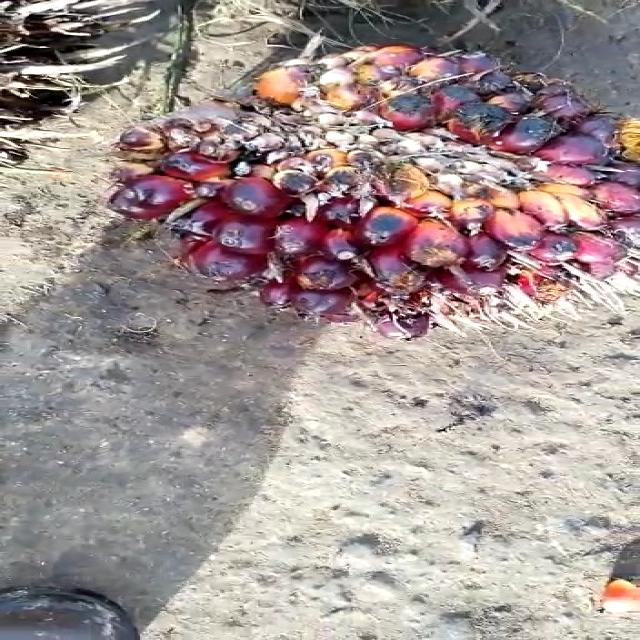palm oil: (121, 43, 640, 330)
